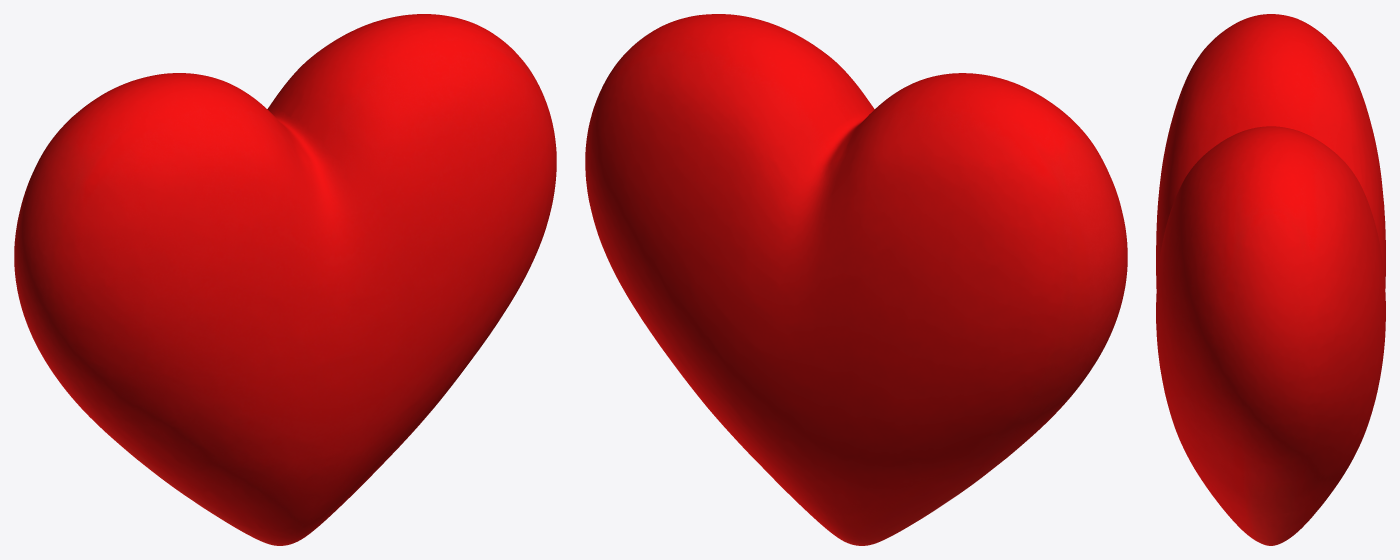
The model's file is Meshy_AI_red_heart_3d_0922135526_image-to-3d-texture.fbx.
3 renders of one model, left to right at view 1: azimuth 30°, elevation 25°; view 2: azimuth 150°, elevation 25°; view 3: azimuth 270°, elevation 25°, orthographic. The views are drawn at different scales.
Parts seen in each view (by area): view 1: Mesh_0; view 2: Mesh_0; view 3: Mesh_0.
Part boxes in pixels (x1,y1,x2,y2): Mesh_0: [14, 14, 556, 545]; Mesh_0: [585, 14, 1127, 545]; Mesh_0: [1156, 14, 1385, 545].
Size of the model in its own units: 190 by 171 by 77.33.
Materials: 1 (1 with a texture image).
